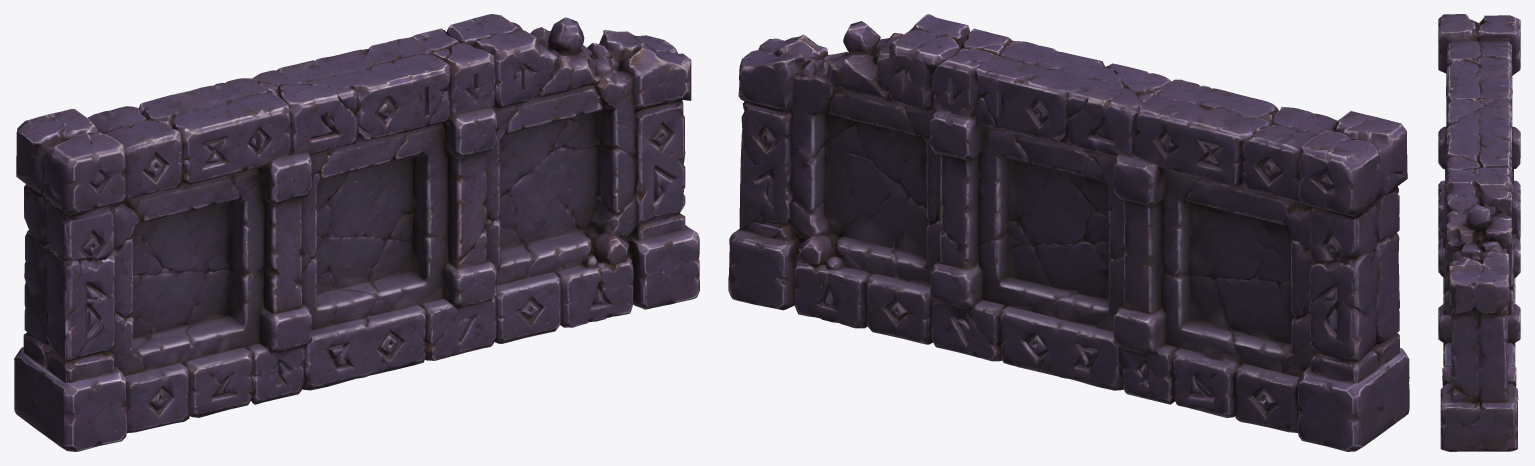
File: rune_mural.glb
The picture shows the model from 3 angles, left to right: view 1: azimuth 30°, elevation 25°; view 2: azimuth 150°, elevation 25°; view 3: azimuth 270°, elevation 25°; orthographic projection. The views are drawn at different scales.
Visible parts, largest first — view 1: tripo_node_a6f540b1-b885-4ca6-8e02-6bb12ef5c136; view 2: tripo_node_a6f540b1-b885-4ca6-8e02-6bb12ef5c136; view 3: tripo_node_a6f540b1-b885-4ca6-8e02-6bb12ef5c136.
Boxes of the visible parts, x1,y1,x2,y2 form: tripo_node_a6f540b1-b885-4ca6-8e02-6bb12ef5c136: (14,14,699,451); tripo_node_a6f540b1-b885-4ca6-8e02-6bb12ef5c136: (728,14,1409,451); tripo_node_a6f540b1-b885-4ca6-8e02-6bb12ef5c136: (1438,14,1520,451).
Bounding box in the file's own units: 1 × 0.4415 × 0.1538.
1 material, 1 textured.
